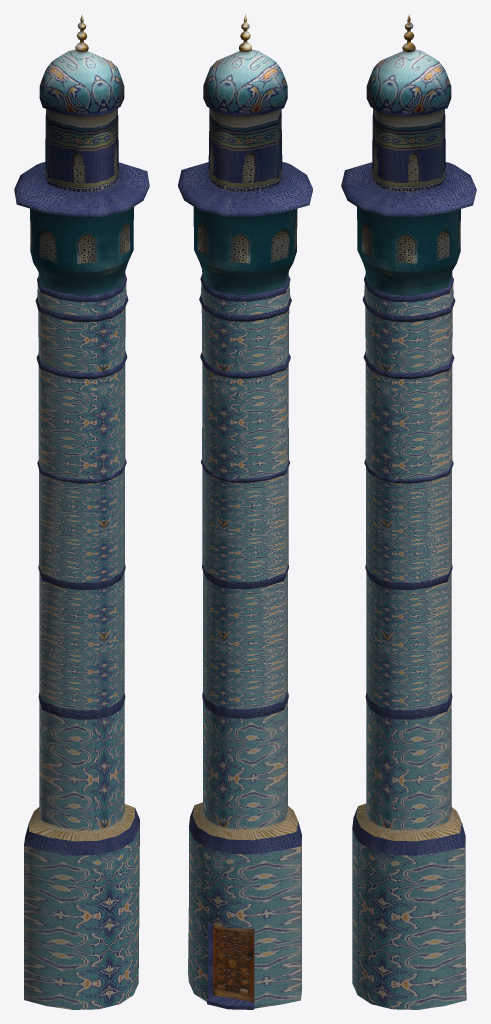
Rendered from building15.fbx.
3 renders of one model, left to right at view 1: azimuth 30°, elevation 25°; view 2: azimuth 150°, elevation 25°; view 3: azimuth 330°, elevation 25°, orthographic.
Visible parts, largest first — view 1: U3DMesh; view 2: U3DMesh; view 3: U3DMesh.
Part boxes in pixels (box(x1,y1,x2,y2)): U3DMesh: box(14, 15, 149, 1009); U3DMesh: box(178, 14, 312, 1009); U3DMesh: box(341, 15, 476, 1009).
Bounding box in the file's own units: 144 × 1032 × 129.
